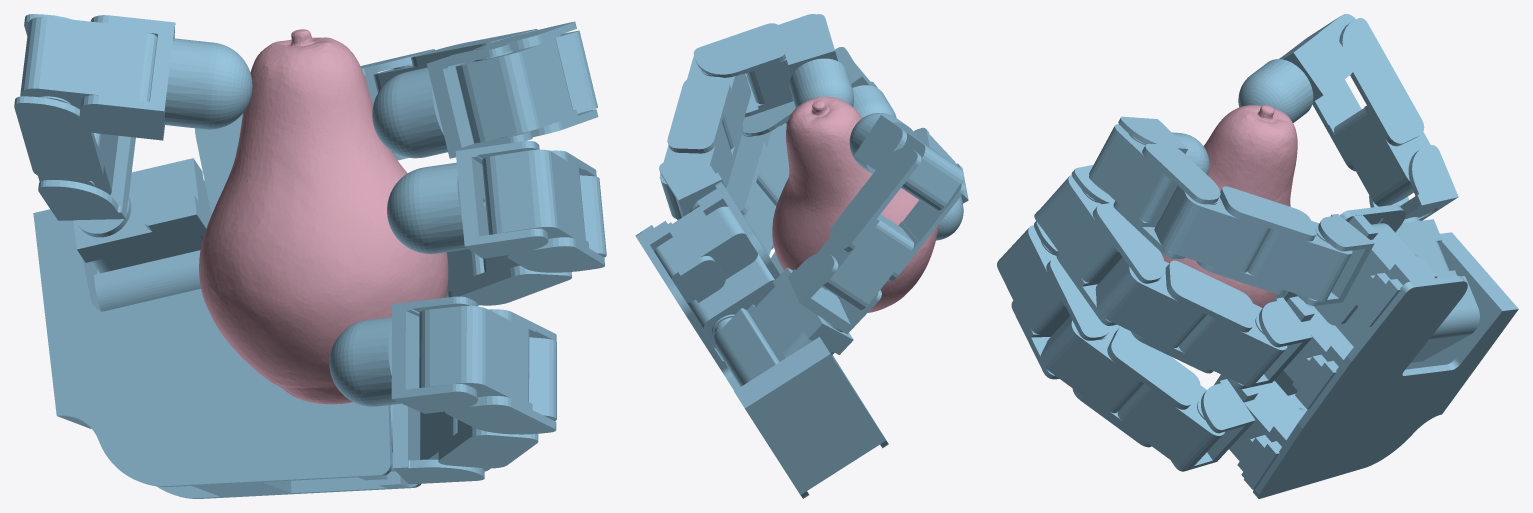
The picture shows the model from 3 angles, left to right: view 1: azimuth 30°, elevation 25°; view 2: azimuth 150°, elevation 25°; view 3: azimuth 270°, elevation 25°; orthographic projection. The views are drawn at different scales.
Visible parts, largest first — view 1: world; view 2: world; view 3: world.
Boxes of the visible parts, bbox=[...] form: world: bbox=[14, 14, 606, 498]; world: bbox=[635, 14, 968, 498]; world: bbox=[997, 14, 1518, 498].
Size of the model in its own units: 0.1524 by 0.1643 by 0.1954.
